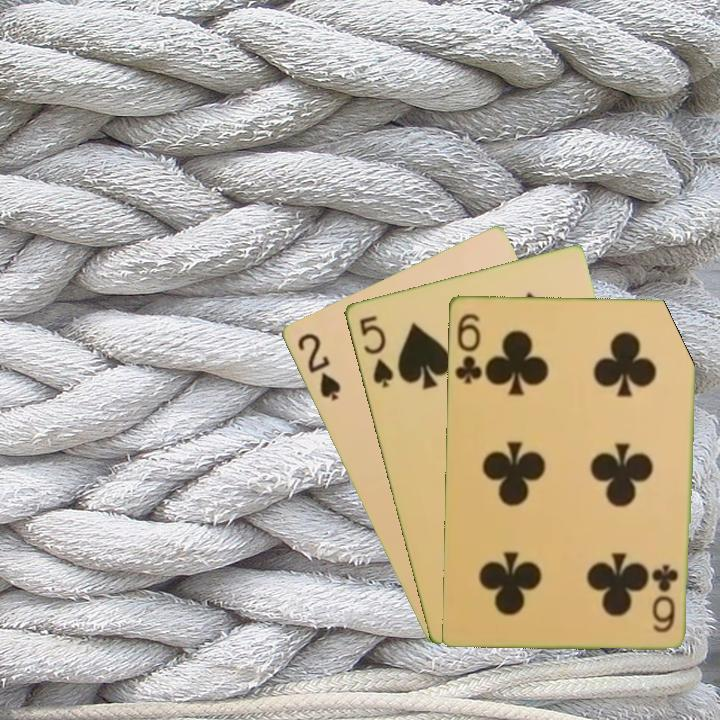2s: (293, 329, 343, 404)
5s: (355, 311, 396, 391)
6c: (451, 309, 484, 386), (651, 560, 680, 635)
